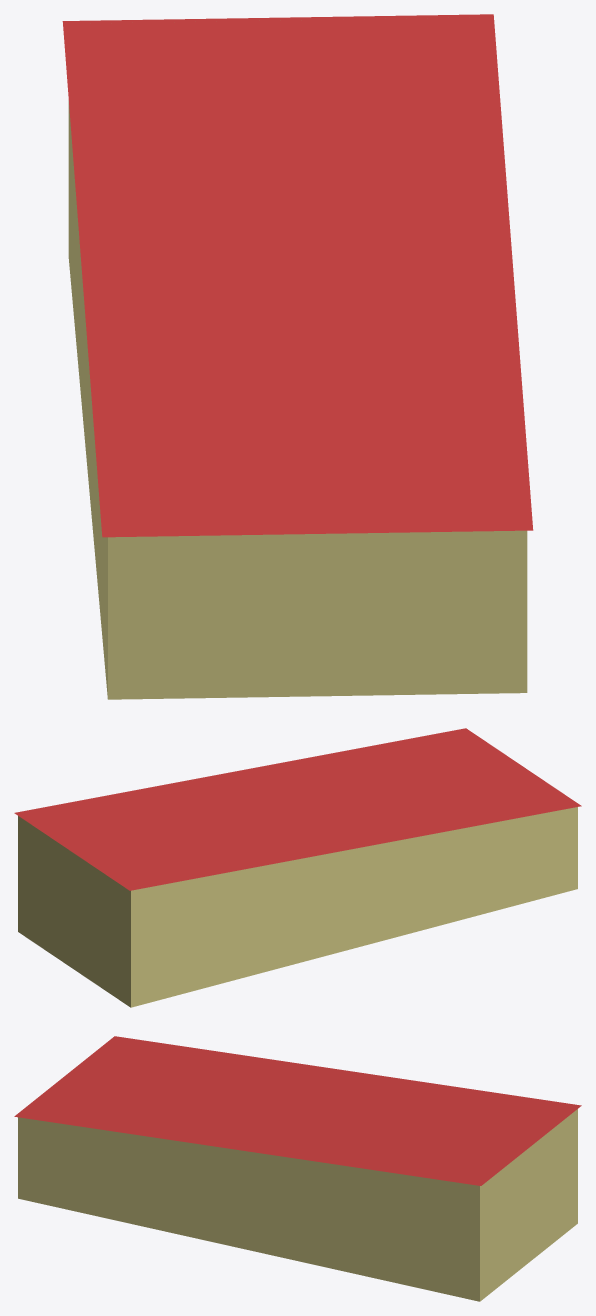
3 renders of one model, top to bottom at view 1: azimuth 30°, elevation 25°; view 2: azimuth 150°, elevation 25°; view 3: azimuth 270°, elevation 25°, orthographic. The views are drawn at different scales.
Size of the model in its own units: 37.66 by 48.88 by 11.15.
